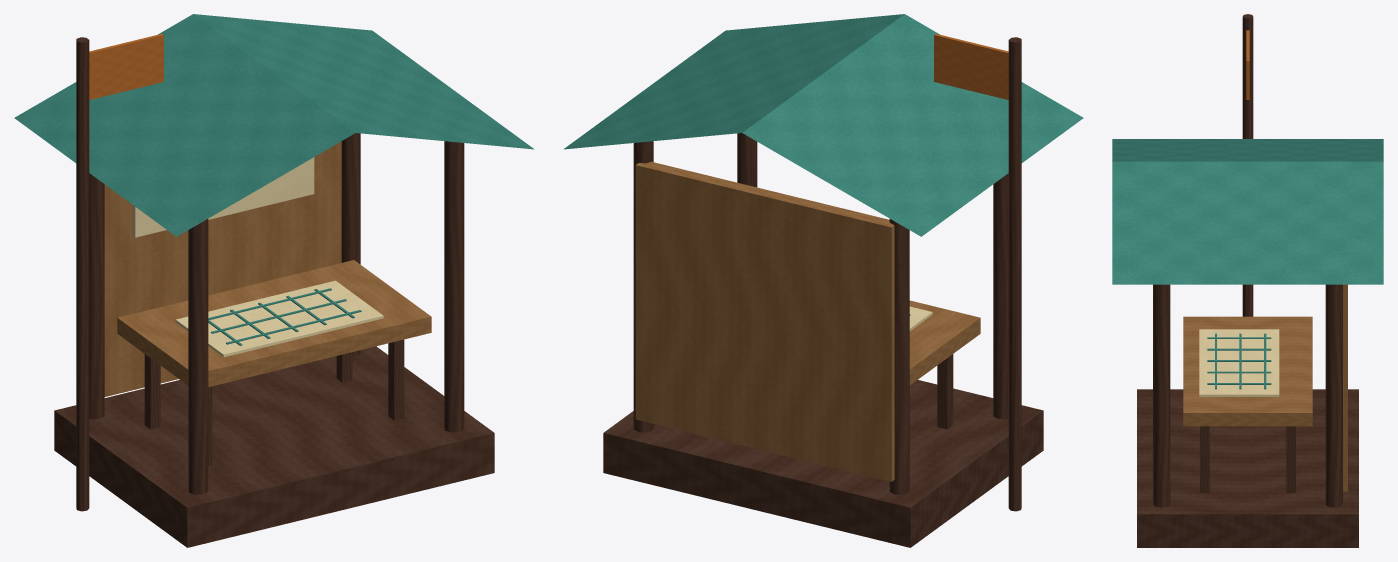
Rendered from survey_shelter.glb.
The picture shows the model from 3 angles, left to right: view 1: azimuth 30°, elevation 25°; view 2: azimuth 150°, elevation 25°; view 3: azimuth 270°, elevation 25°; orthographic projection. The views are drawn at different scales.
Parts seen in each view (by area): view 1: survey_shelter; view 2: survey_shelter; view 3: survey_shelter.
Boxes of the visible parts, x1,y1,x2,y2 form: survey_shelter: (14,14,534,547); survey_shelter: (563,14,1083,547); survey_shelter: (1112,14,1383,547).
Bounding box in the file's own units: 2.94 × 3.5 × 2.2.
Materials: 5 (5 with a texture image).
